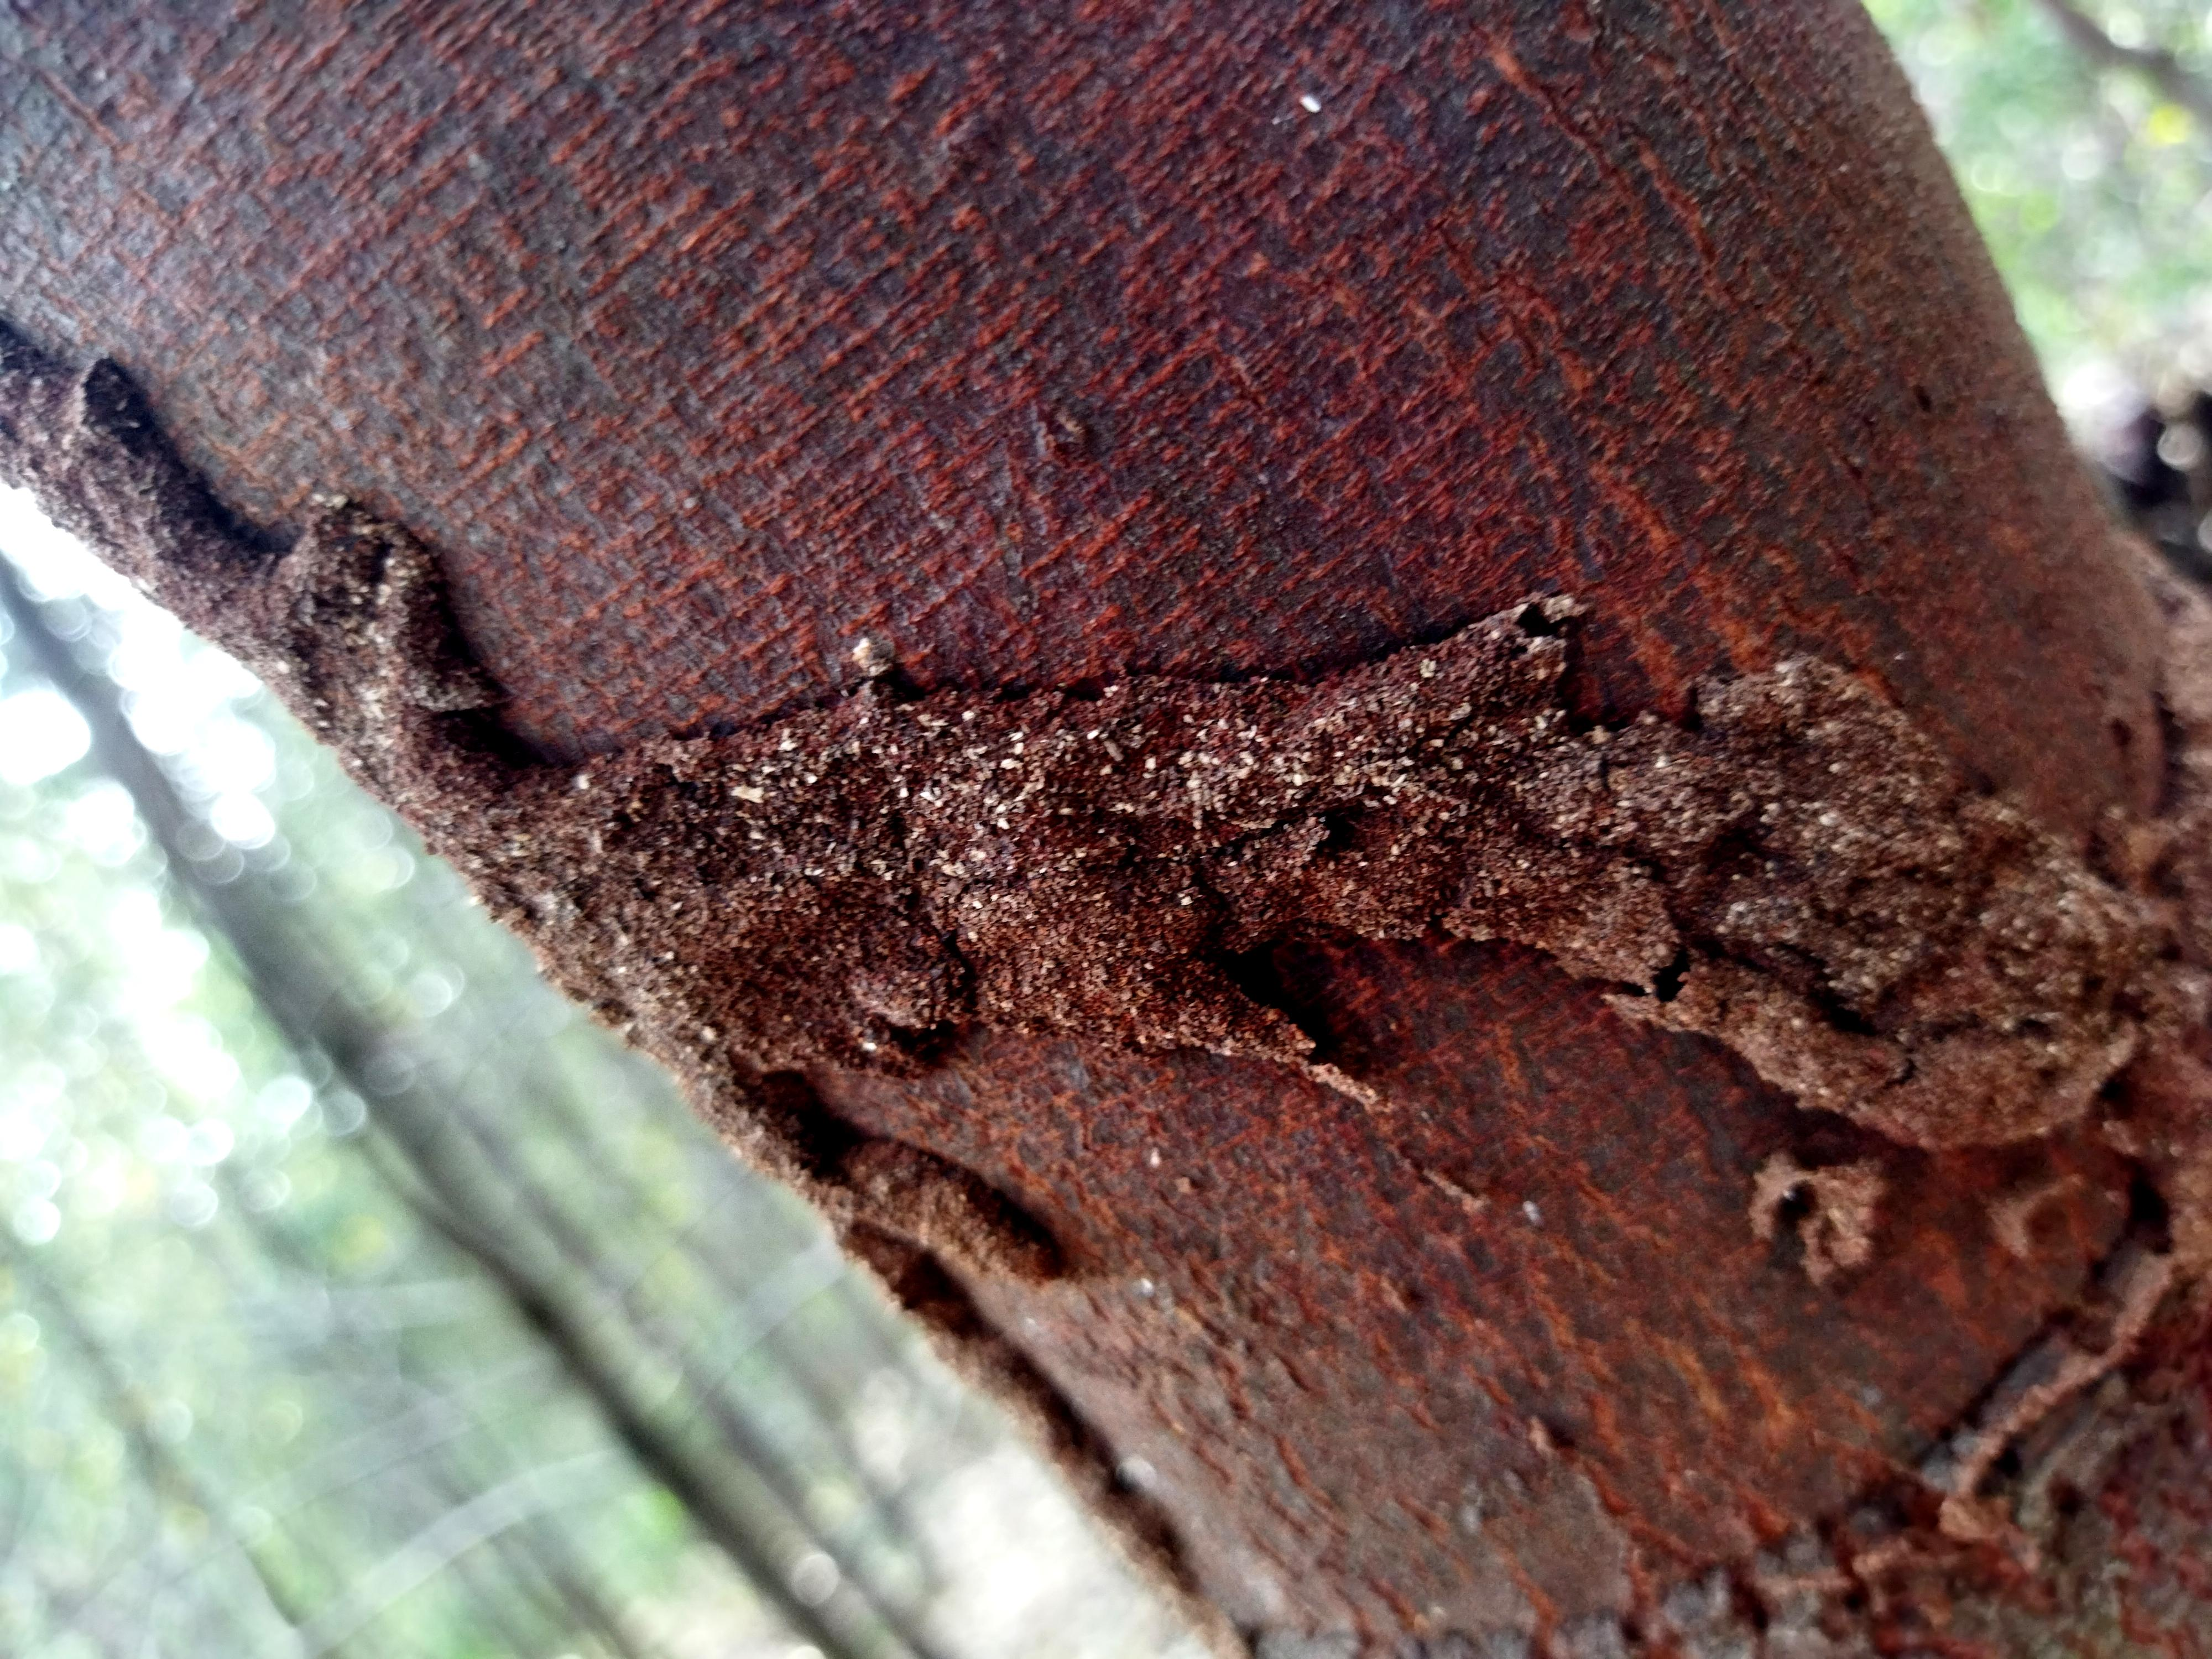Termite - Nest: (0, 289, 2212, 1401)
